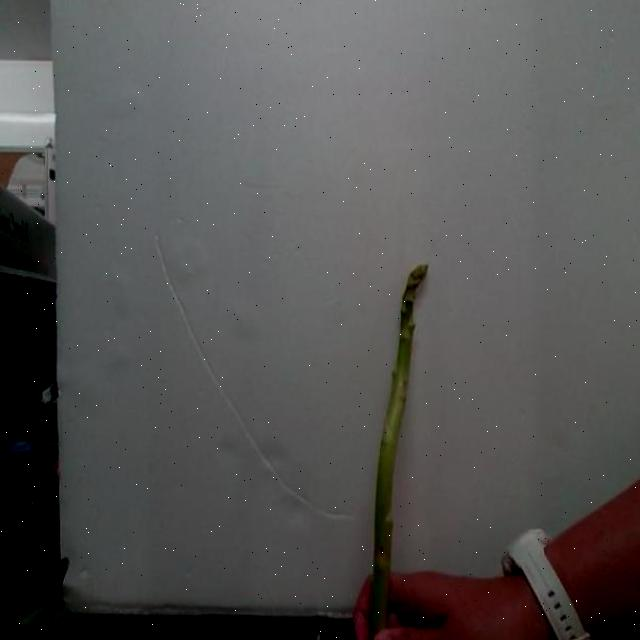aspargus: (368, 265, 428, 640)
